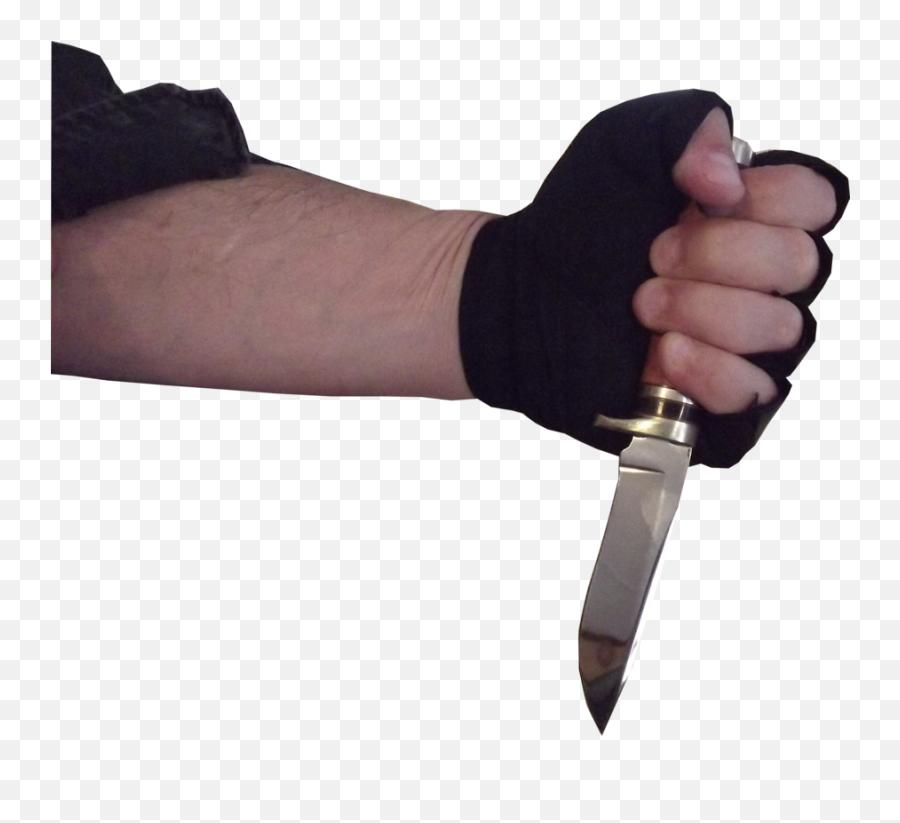Knife: (52, 41, 849, 466), (479, 90, 852, 468), (579, 410, 704, 736)
